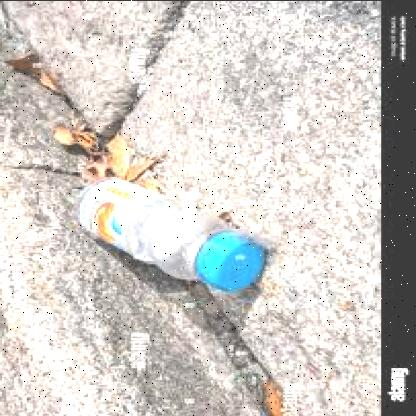Plastic Bottle: (79, 178, 266, 291)
